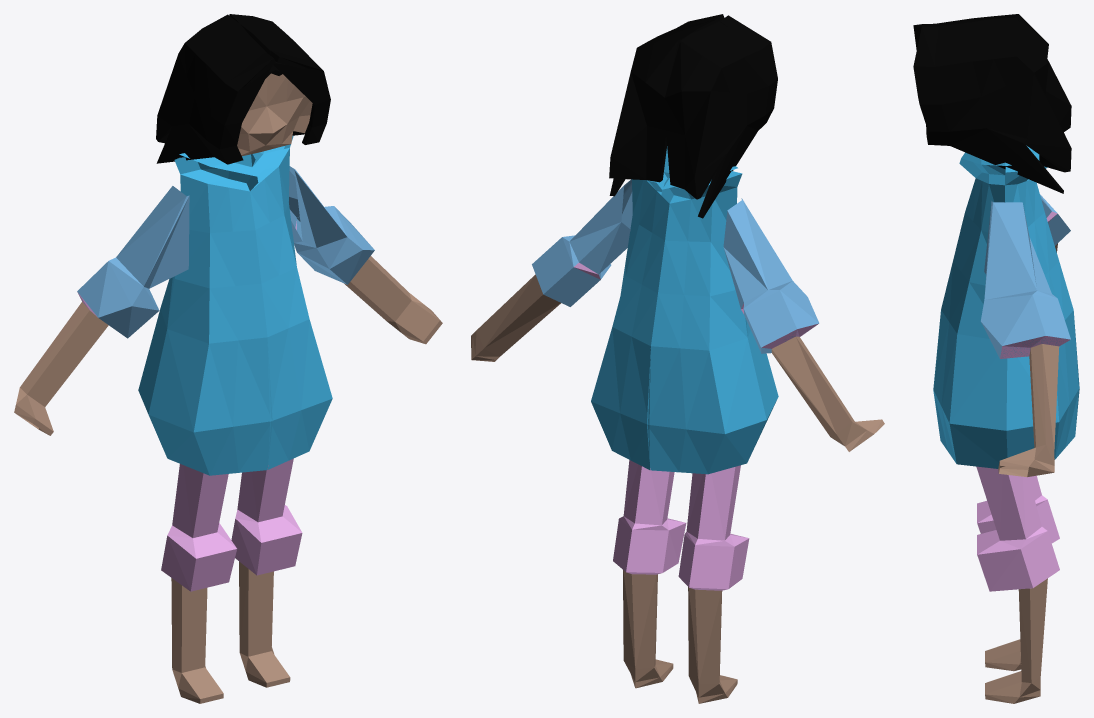
The model's file is person.dae.
3 views of the same model, side by side, from view 1: azimuth 30°, elevation 25°; view 2: azimuth 150°, elevation 25°; view 3: azimuth 270°, elevation 25° (orthographic). The views are drawn at different scales.
Visible parts, largest first — view 1: Cube, Cylinder.001, Cylinder, Cube.002, Cube.001; view 2: Cube, Cube.002, Cylinder.001, Cylinder; view 3: Cube, Cube.002, Cylinder.001, Cylinder.
Part boxes in pixels (x1,y1,x2,y2): Cube: (138,135,332,475); Cylinder.001: (14,166,442,435); Cylinder: (161,458,302,703); Cube.002: (156,14,330,164); Cube.001: (237,73,312,156); Cube: (591,146,778,474); Cube.002: (609,14,777,218); Cylinder.001: (471,179,884,451); Cylinder: (613,460,749,703); Cube: (933,145,1079,468); Cube.002: (913,14,1071,193); Cylinder.001: (980,194,1070,477); Cylinder: (976,466,1059,703).
Bounding box in the file's own units: 2.35 × 0.8173 × 3.6.
